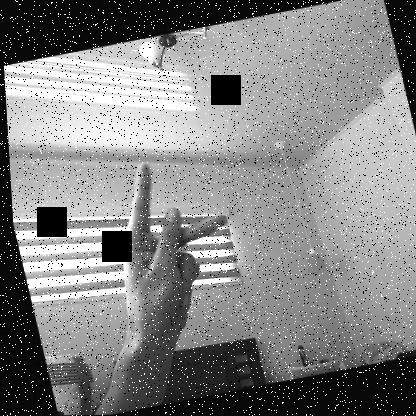K: (90, 149, 248, 343)
